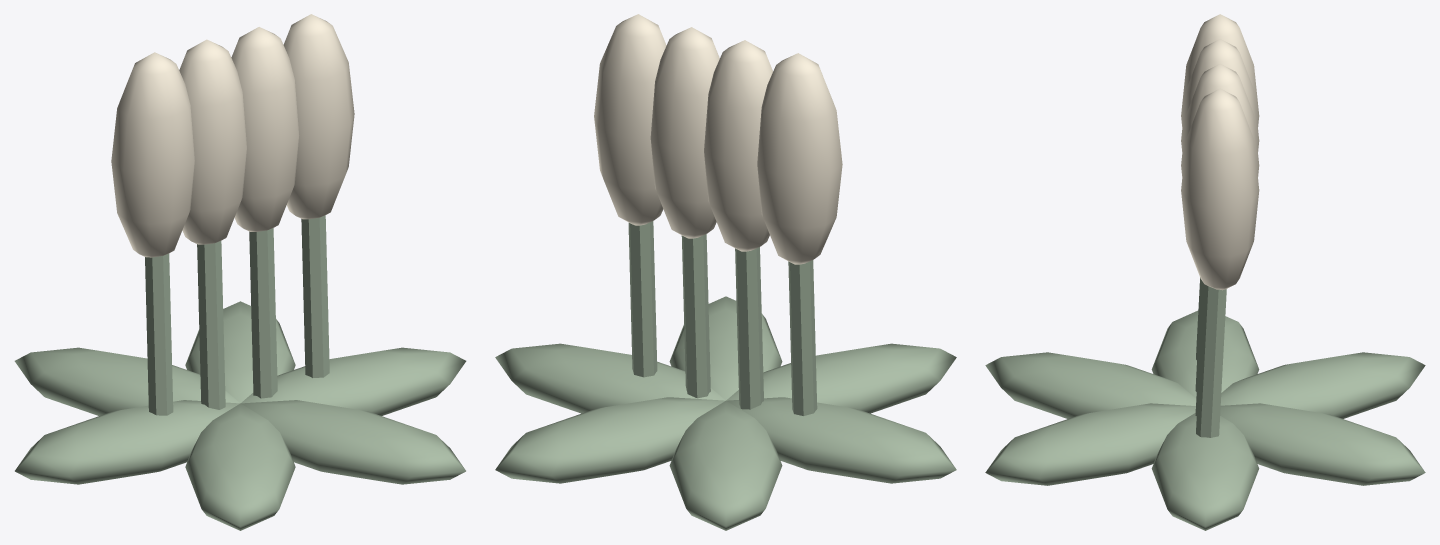
The model's file is farm-crop-0.glb.
3 views of the same model, side by side, from view 1: azimuth 30°, elevation 25°; view 2: azimuth 150°, elevation 25°; view 3: azimuth 270°, elevation 25° (orthographic). The views are drawn at different scales.
Parts seen in each view (by area): view 1: leaf; view 2: leaf; view 3: leaf.
Boxes of the visible parts, <box> form: leaf: <box>14,14,466,530</box>; leaf: <box>495,14,956,530</box>; leaf: <box>985,14,1425,530</box>.
Bounding box in the file's own units: 1.04 × 0.8911 × 0.9007.
